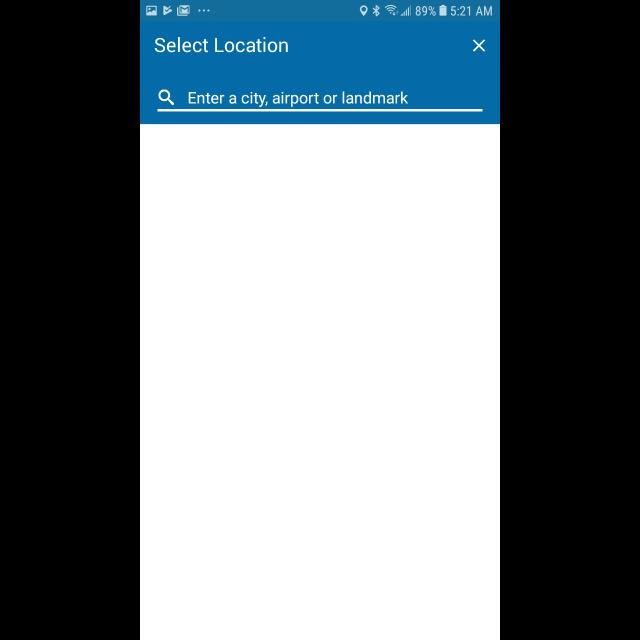icon: (159, 90, 175, 106), (472, 40, 486, 52)
input: (158, 90, 482, 112)
text: (188, 92, 408, 108), (155, 37, 289, 53)
uppertaskbar: (140, 1, 500, 22)
